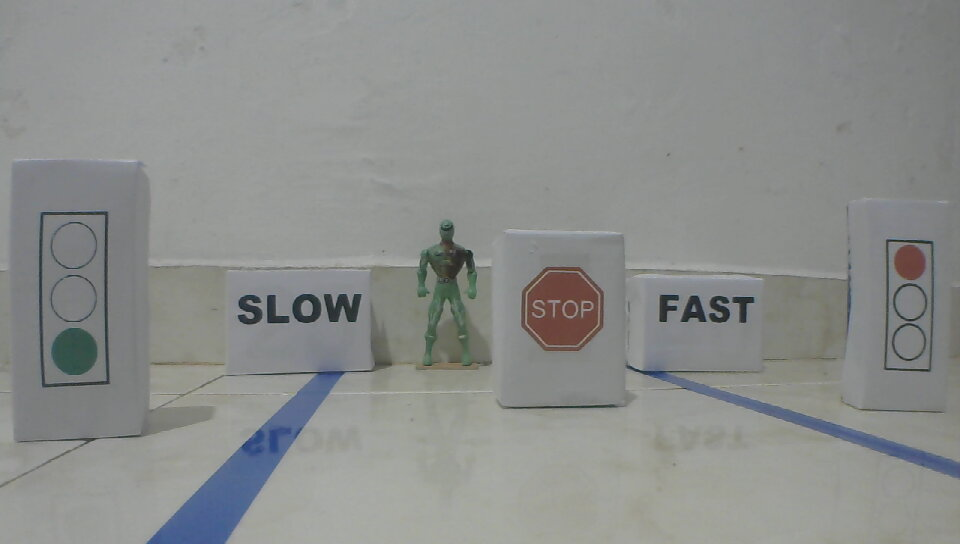Fast: (658, 293, 756, 325)
Person: (412, 219, 481, 369)
Red Traffic Light: (36, 208, 114, 392), (881, 237, 936, 376)
Slow: (236, 290, 361, 327)
Stop Sign: (518, 266, 607, 352)
